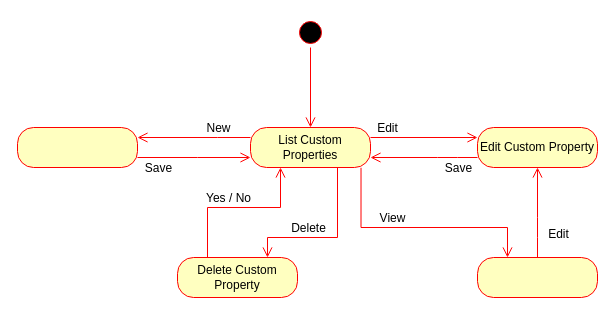
The diagram is 615 pixels wide and 315 high, and some of its shapes have lost their labels. Each missing label, with the box of its shape:
New Custom Property: (16, 126, 138, 168)
View Custom Property: (476, 256, 598, 298)
